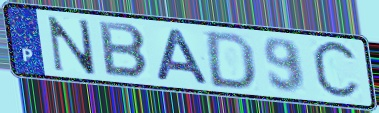9: (261, 36, 307, 96)
A: (152, 27, 212, 86)
B: (96, 18, 152, 80)
C: (309, 38, 363, 103)
D: (205, 29, 257, 92)
N: (46, 14, 98, 77)
